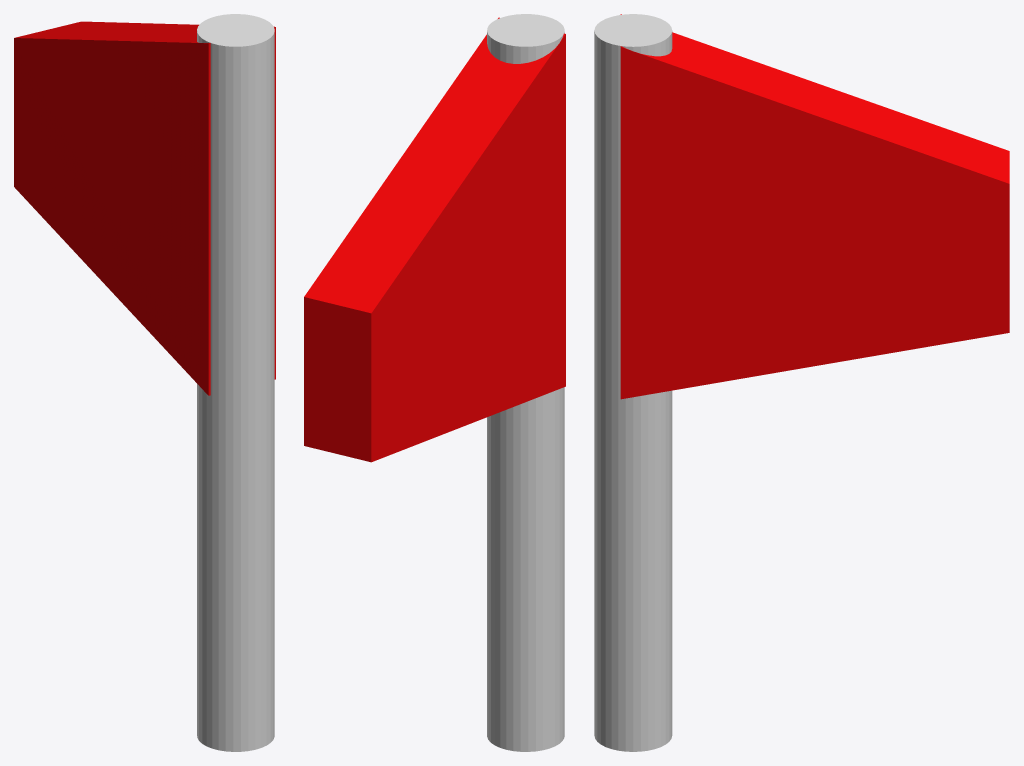
Rendered from RedFlag.dae.
3 views of the same model, side by side, from view 1: azimuth 30°, elevation 25°; view 2: azimuth 150°, elevation 25°; view 3: azimuth 270°, elevation 25° (orthographic).
Parts seen in each view (by area): view 1: Cube, Cylinder; view 2: Cube, Cylinder; view 3: Cube, Cylinder.
Part boxes in pixels (box(x1,y1,x2,y2)): Cube: box(14, 21, 275, 395); Cylinder: box(197, 14, 274, 751); Cube: box(304, 17, 565, 462); Cylinder: box(487, 14, 564, 751); Cube: box(620, 14, 1009, 399); Cylinder: box(594, 14, 672, 751).
Size of the model in its own units: 0.02 by 0.1067 by 0.2.
